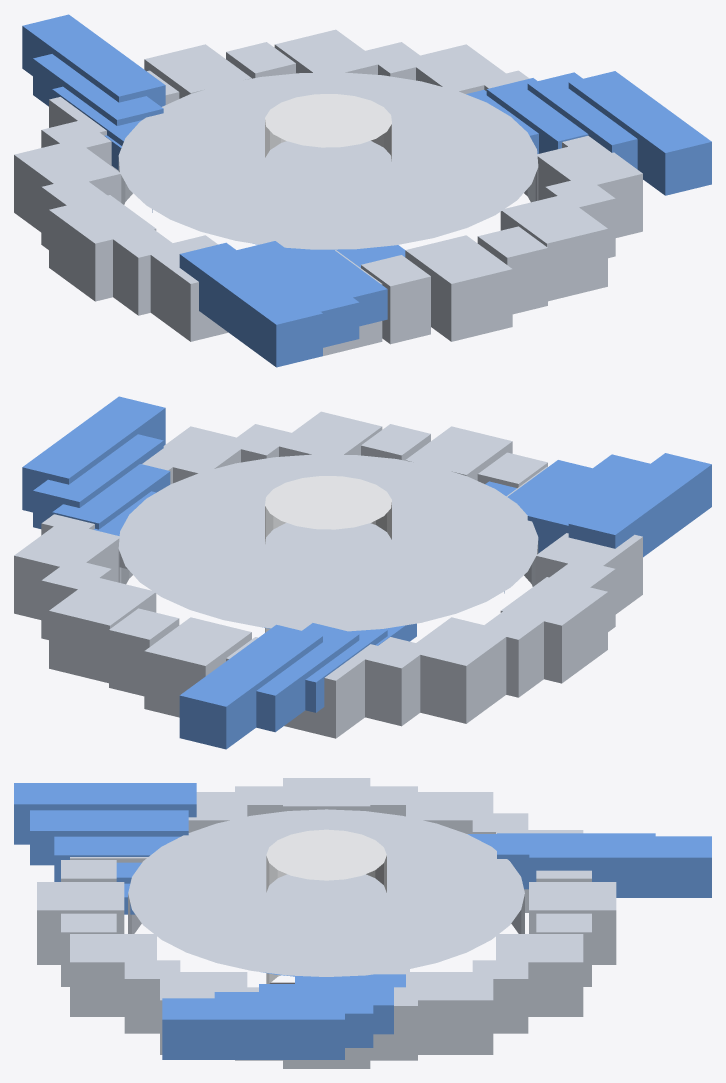
Rendered from NovaStriker.glb.
3 views of the same model, one above another, from view 1: azimuth 30°, elevation 25°; view 2: azimuth 150°, elevation 25°; view 3: azimuth 270°, elevation 25° (orthographic). The views are drawn at different scales.
Visible parts, largest first — view 1: FusionWheel, AttackWings, FaceBolt; view 2: FusionWheel, AttackWings, FaceBolt; view 3: FusionWheel, AttackWings, FaceBolt.
Boxes of the visible parts, left/top/right/bottom form: FusionWheel: left=14, top=29, right=642, bottom=355; AttackWings: left=22, top=14, right=711, bottom=367; FaceBolt: left=265, top=94, right=391, bottom=161; FusionWheel: left=14, top=411, right=642, bottom=738; AttackWings: left=22, top=396, right=711, bottom=749; FaceBolt: left=265, top=476, right=391, bottom=632; FusionWheel: left=37, top=778, right=616, bottom=1068; AttackWings: left=14, top=783, right=711, bottom=1059; FaceBolt: left=266, top=829, right=386, bottom=983.
Size of the model in its own units: 3.79 by 1.14 by 4.4.
